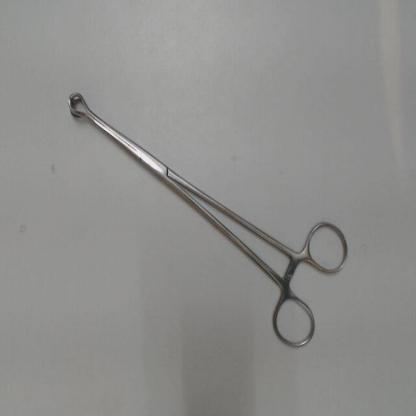8 Babcock Tissue Forceps: (63, 85, 353, 358)
